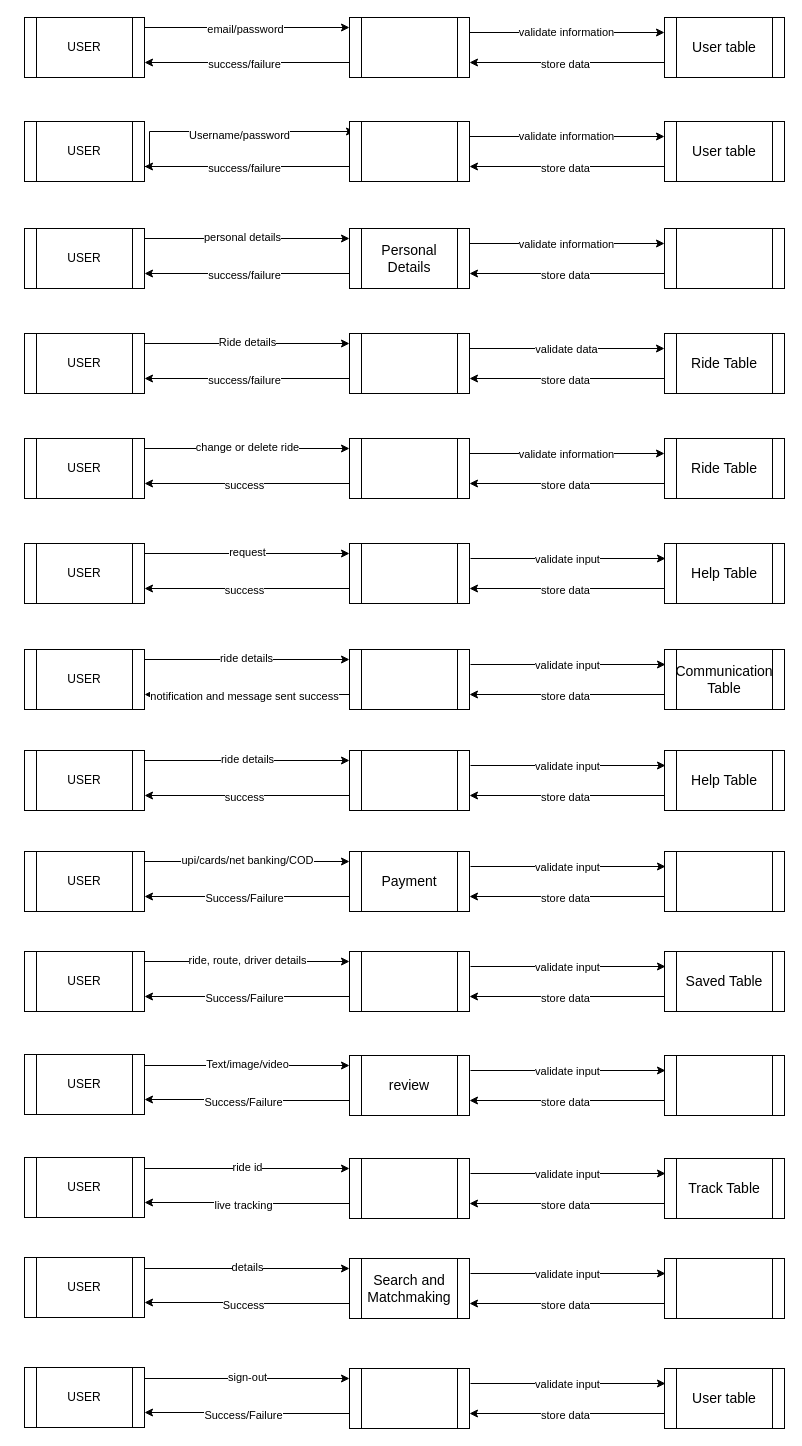
Some shapes in this 802 by 1446 pixel diagram are drawn without their labels. Each missing label, with the centre of its shape:
"Communication" belongs at (409,679).
"Emergency" belongs at (409,780).
"Login" belongs at (409,151).
"Logout" belongs at (409,1398).
"Manage Ride" belongs at (409,468).
"Payment table" belongs at (724,881).
"Personal Table" belongs at (724,258).
"Registration" belongs at (409,47).
"Review Table" belongs at (724,1085).
"Ride Booking" belongs at (409,363).
"Safety" belongs at (409,573).
"Saved" belongs at (409,981).
"Search Table" belongs at (724,1288).
"Track Ride" belongs at (409,1188).
